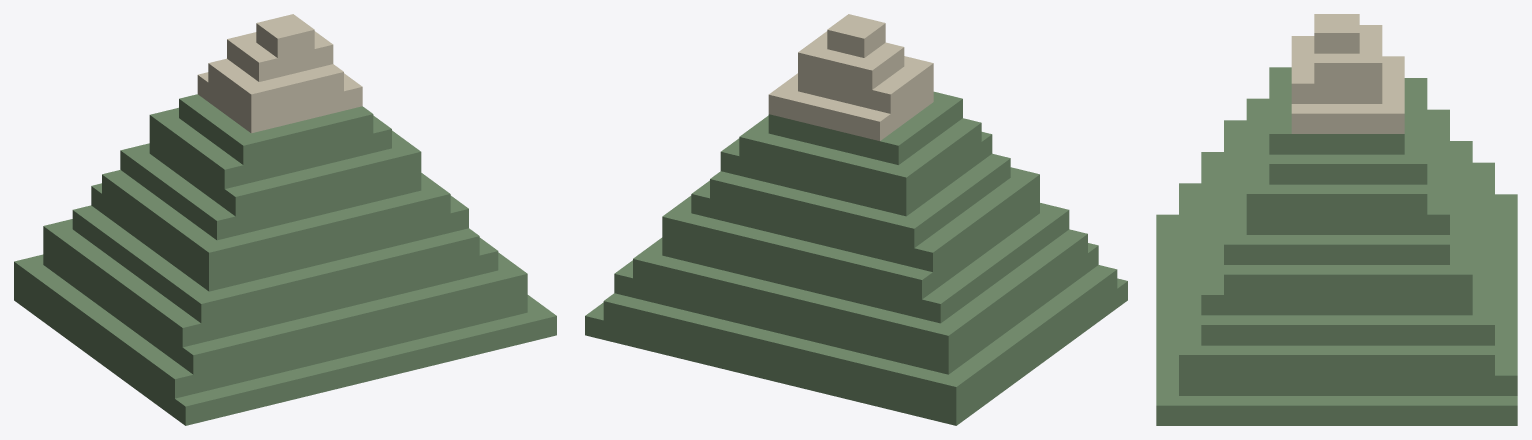
The model's file is climate-11.glb.
The picture shows the model from 3 angles, left to right: view 1: azimuth 30°, elevation 25°; view 2: azimuth 150°, elevation 25°; view 3: azimuth 270°, elevation 25°; orthographic projection. The views are drawn at different scales.
Visible parts, largest first — view 1: Mountain model; view 2: Mountain model; view 3: Mountain model.
Part boxes in pixels (x1,y1,x2,y2): Mountain model: (14, 14, 556, 425); Mountain model: (585, 14, 1127, 425); Mountain model: (1156, 14, 1517, 425).
Bounding box in the file's own units: 1.6 × 1.2 × 1.28.
